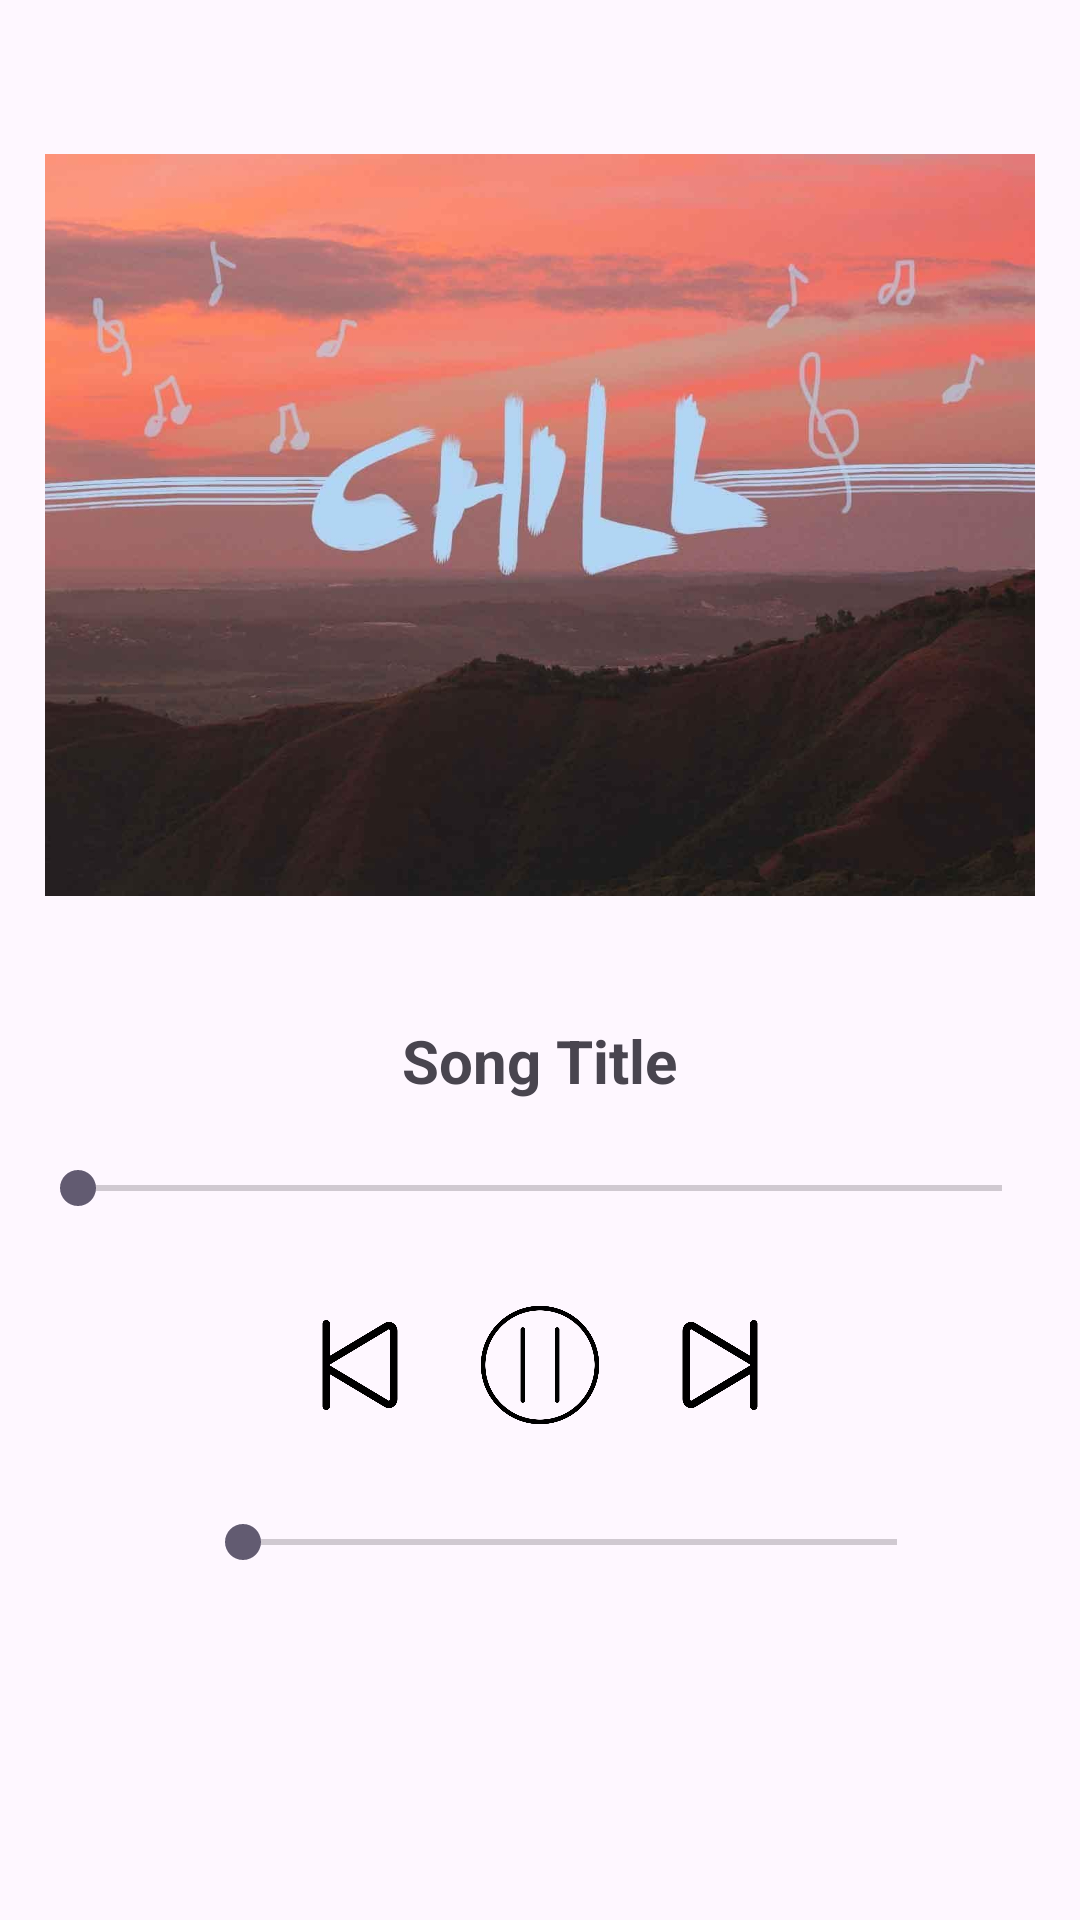

Where icons sit on this 1080px×1920px app screen, as (x1=x1, y1=y1, x2=x2, y2=y2):
next: (x1=682, y1=1320, x2=758, y2=1410)
pause: (x1=481, y1=1306, x2=599, y2=1424)
prev: (x1=322, y1=1320, x2=398, y2=1410)
